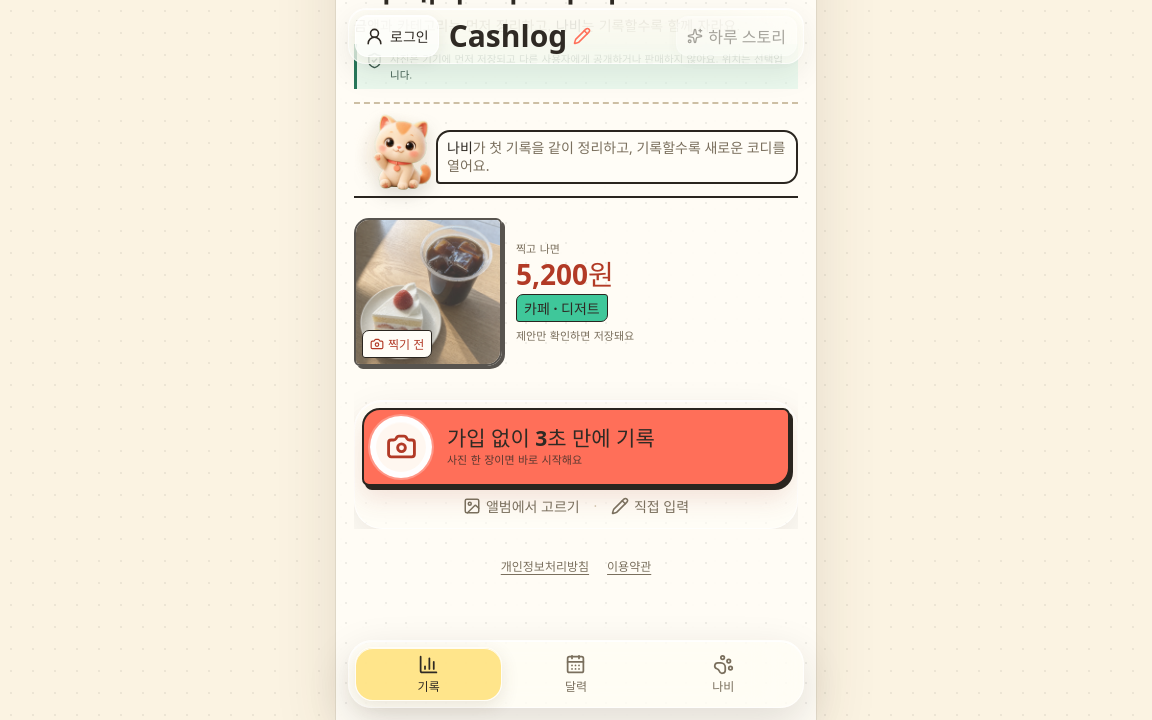
Test: Cashlog photo MVP › lets a user add a manual expense without a photo
This screenshot has width=1152, height=720.
(page scrolled)
Click the button "직접 입력". click: [650, 506]
box: [604,491,696,521]
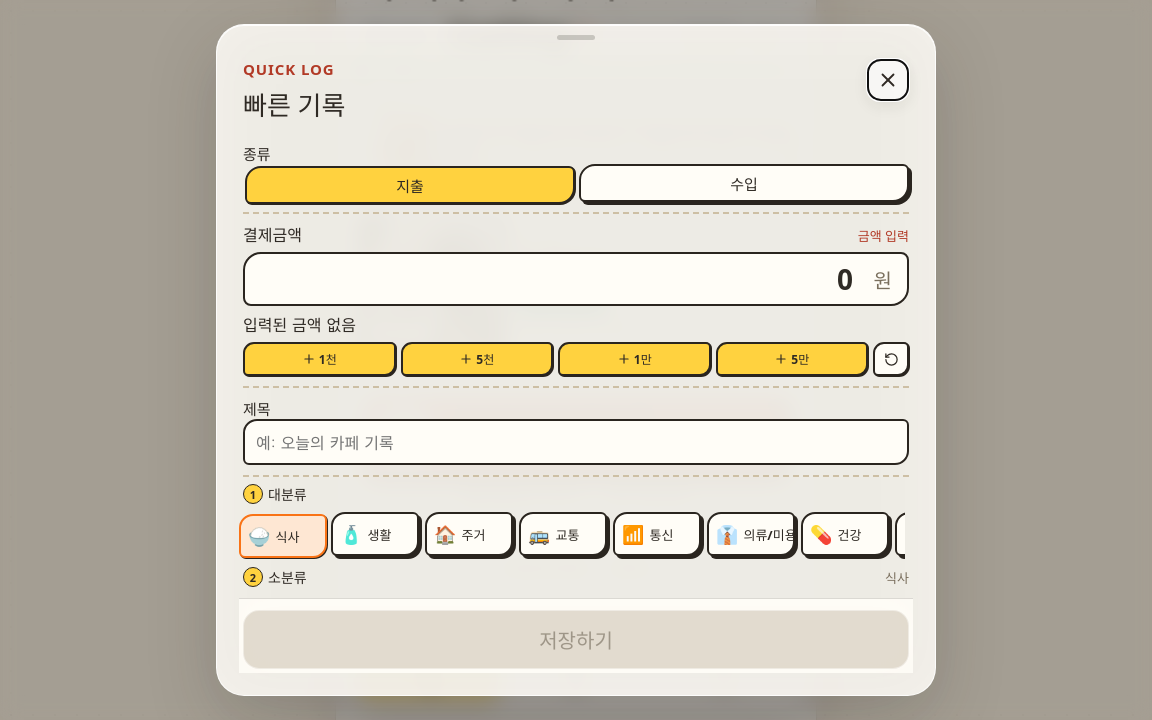
Type "지하철 충전" into the field labelled "제목". click: [576, 442]
box: [243,419,909,465]
Type "10000" into the field labelled "금액". click: [576, 279]
box: [243,252,909,306]
(page scrolled)
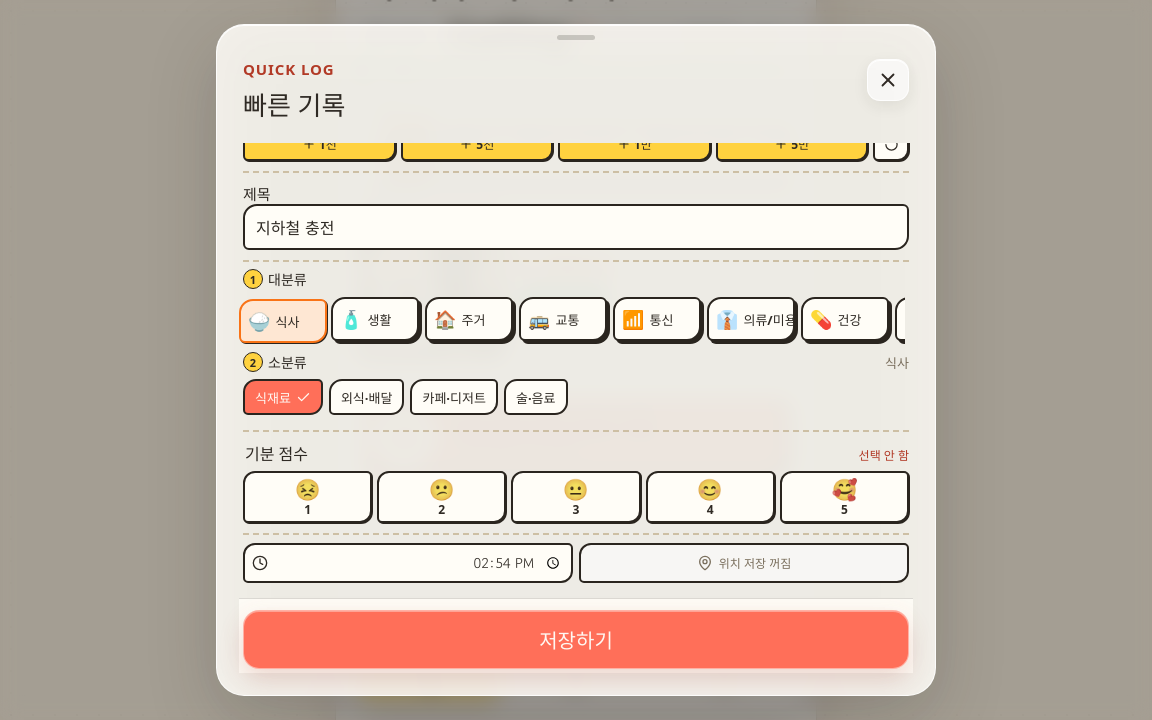
Click the button named "5점 최고야". click: [844, 497]
box: [780,471,909,523]
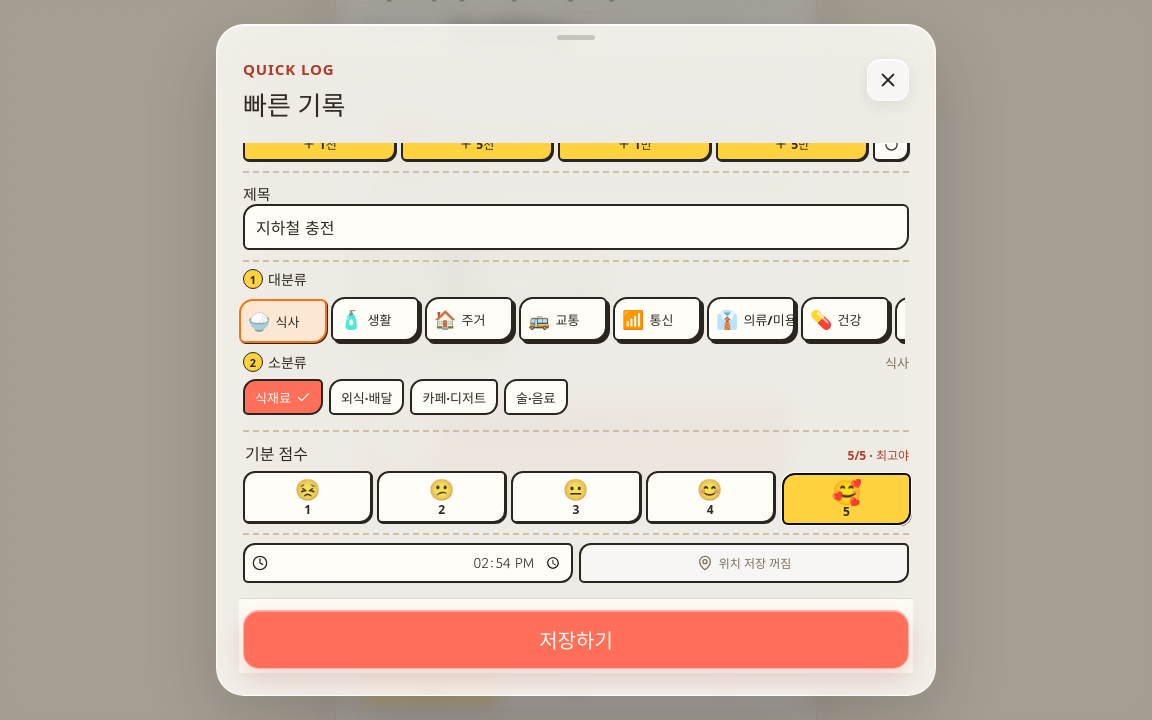
Click the button with aria-label "대분류: 교통". click: [563, 319]
box: [519,297,607,341]
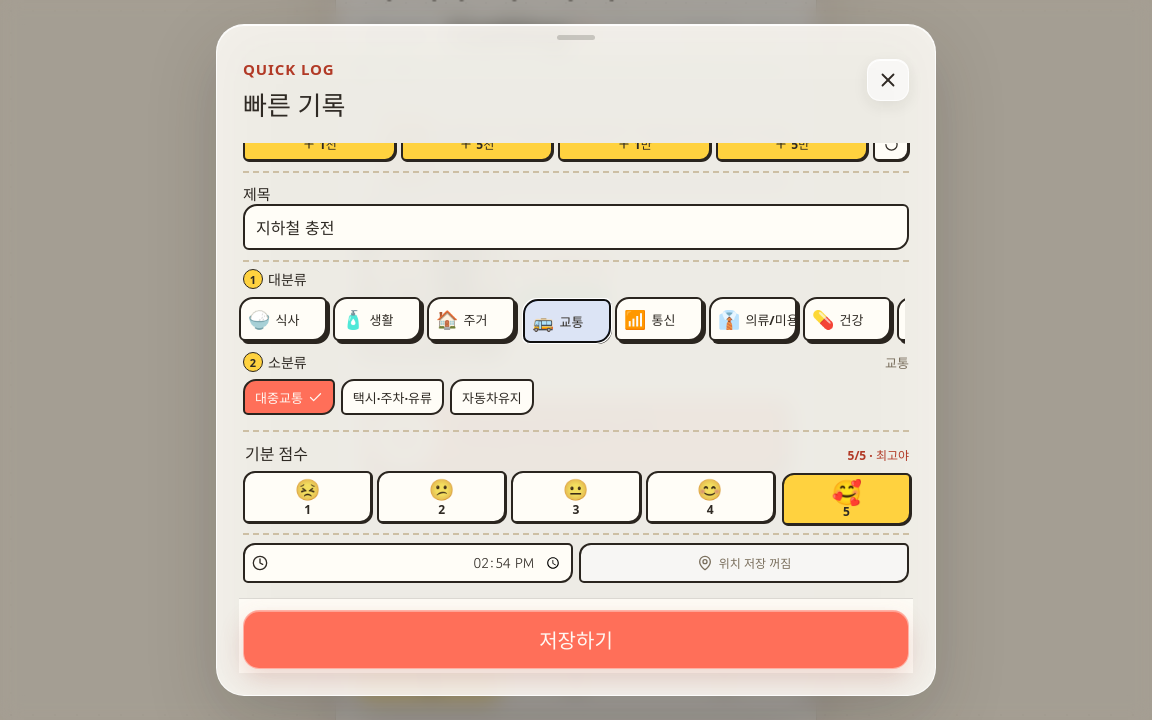
Click the button with aria-label "소분류: 대중교통". click: [289, 397]
box: [243,379,335,415]
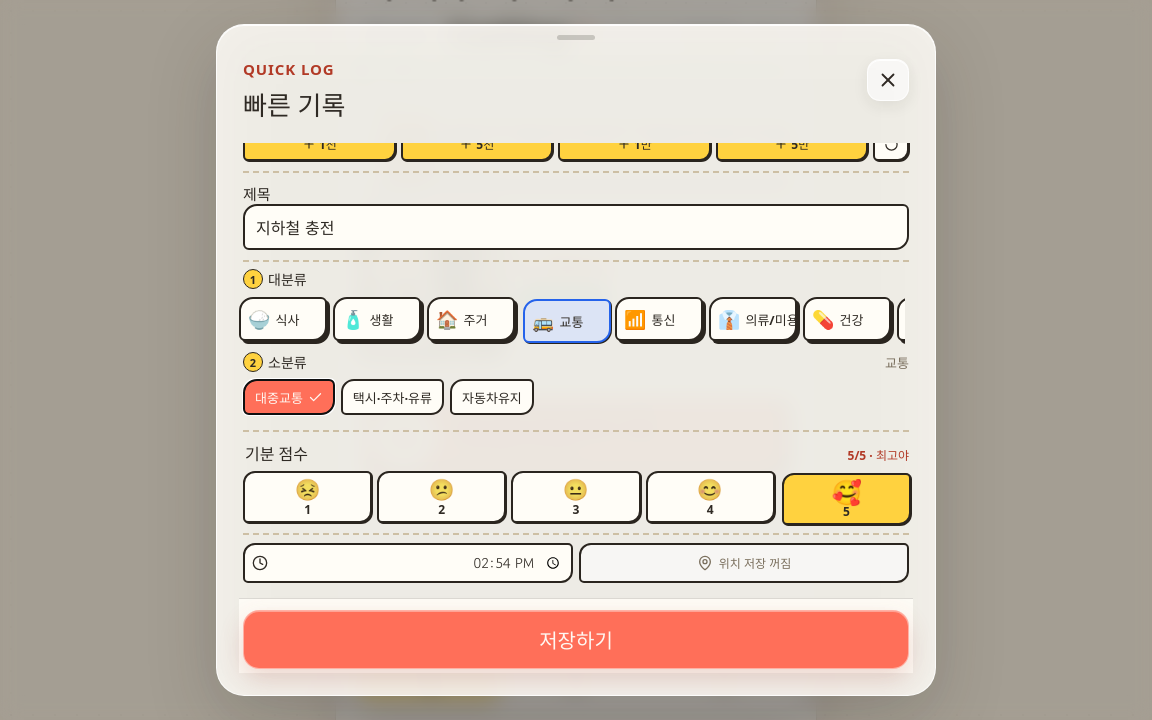
Click the button "저장하기". click: [576, 640]
box: [243,610,909,669]
(page scrolled)
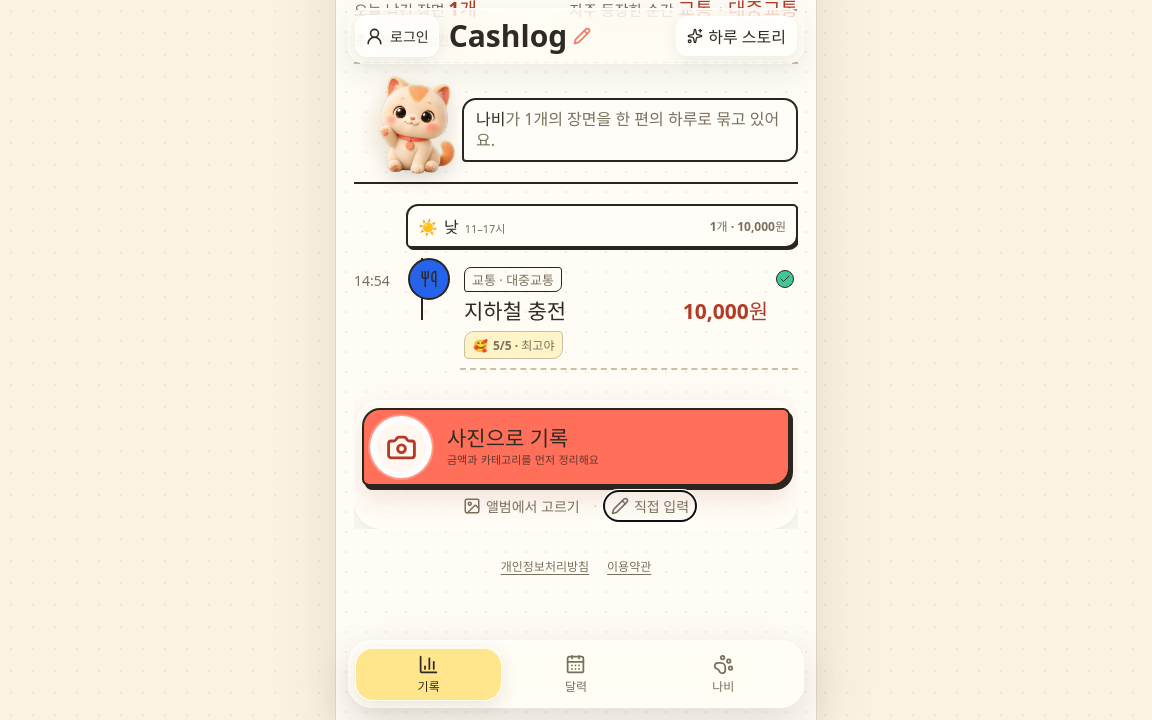
Result: the heading "지하철 충전" is shown at [464,295,566,325]
Result: the text "10,000원" is shown at [683,295,768,325]
Result: the text "🥰 5/5 · 최고야" is shown at [464,331,564,359]
